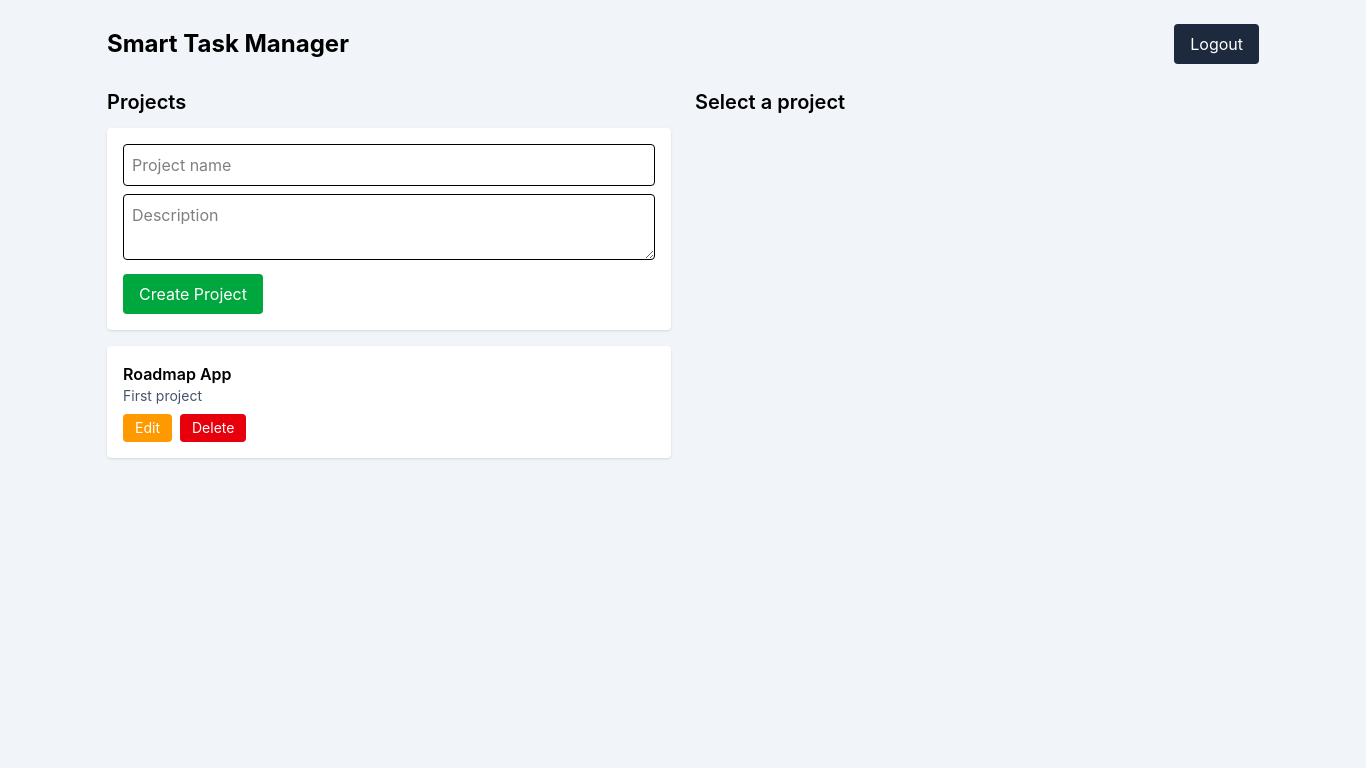
it: App integration › creates a task successfully and refreshes the task list
Click the heading "Roadmap App": [177, 374] box [123,364,232,384]
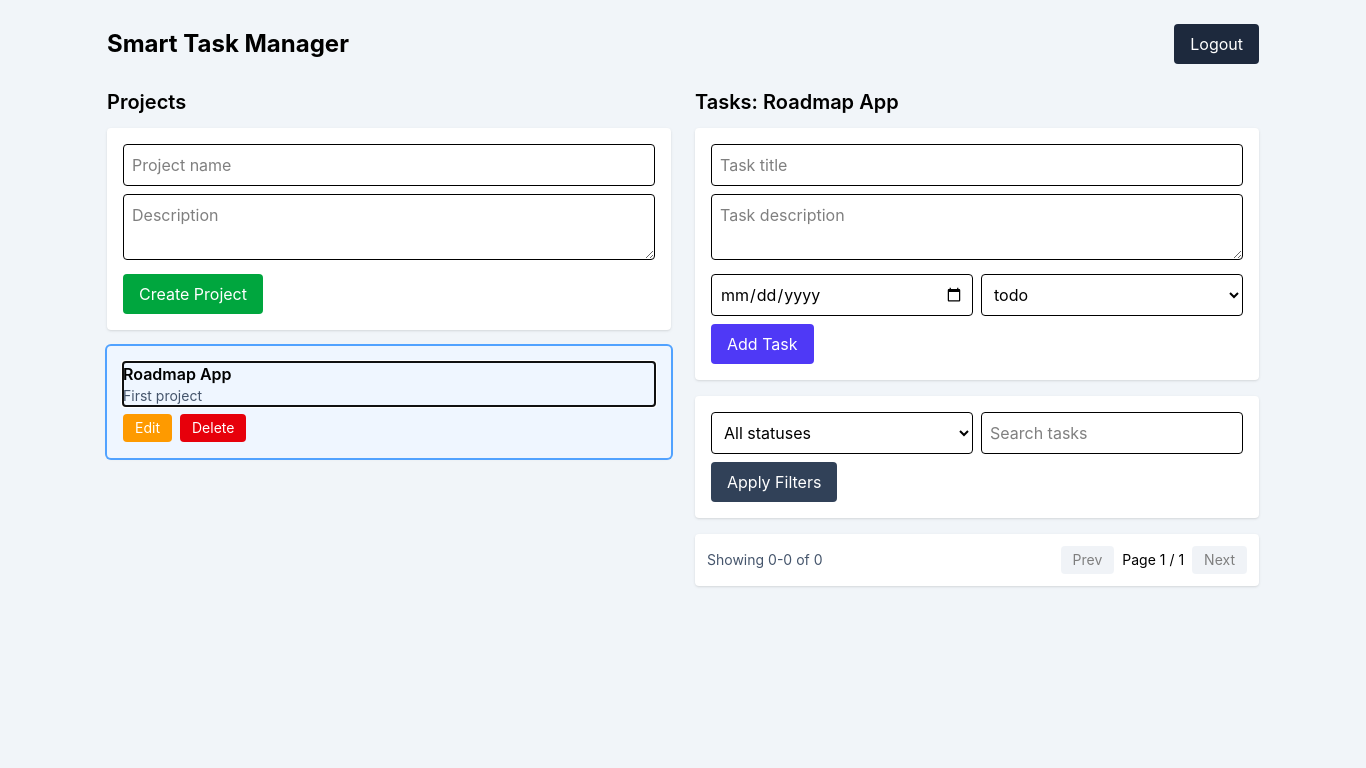
In the field with placeholder "Task title": [977, 165] box [711,144,1243,186], type "Ship Task Flow"
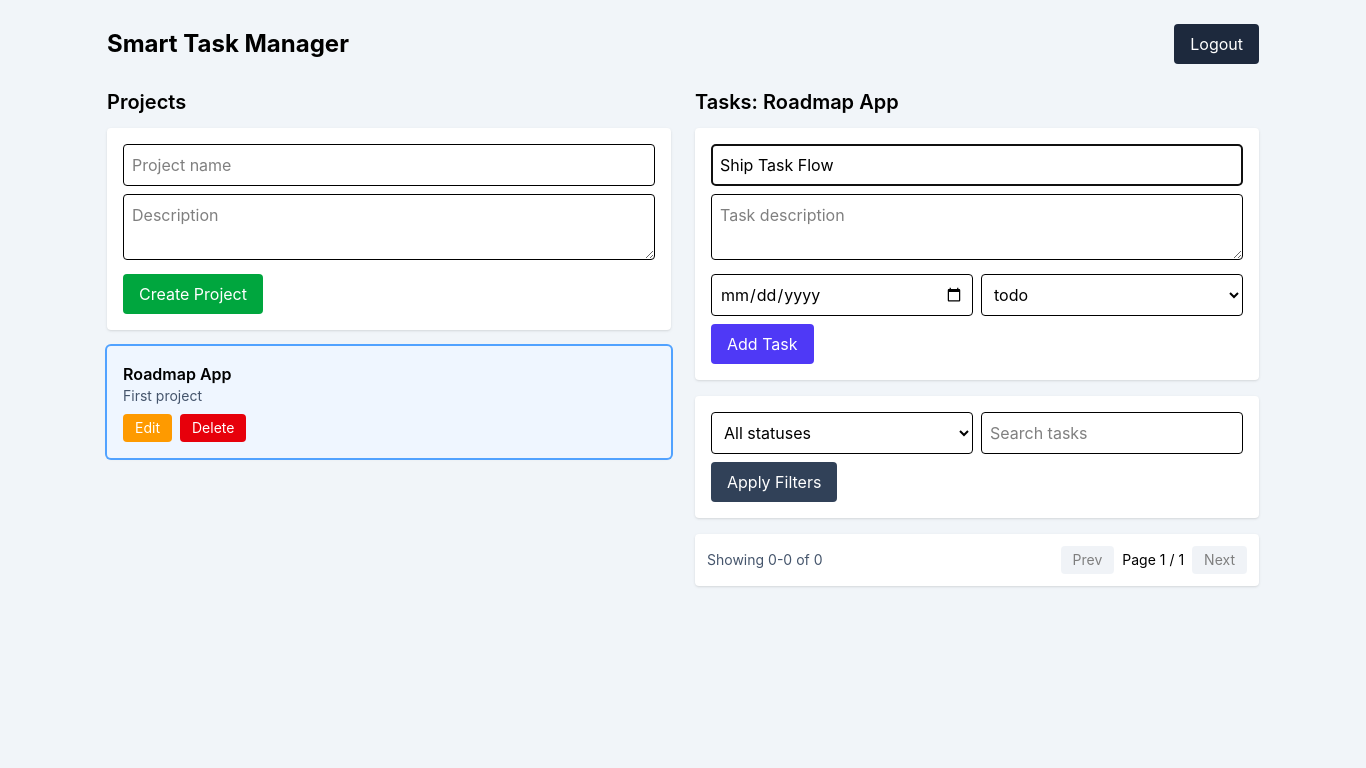
In the text box with placeholder "Task description": [977, 227] box [711,194,1243,260], type "Create and reload tasks"
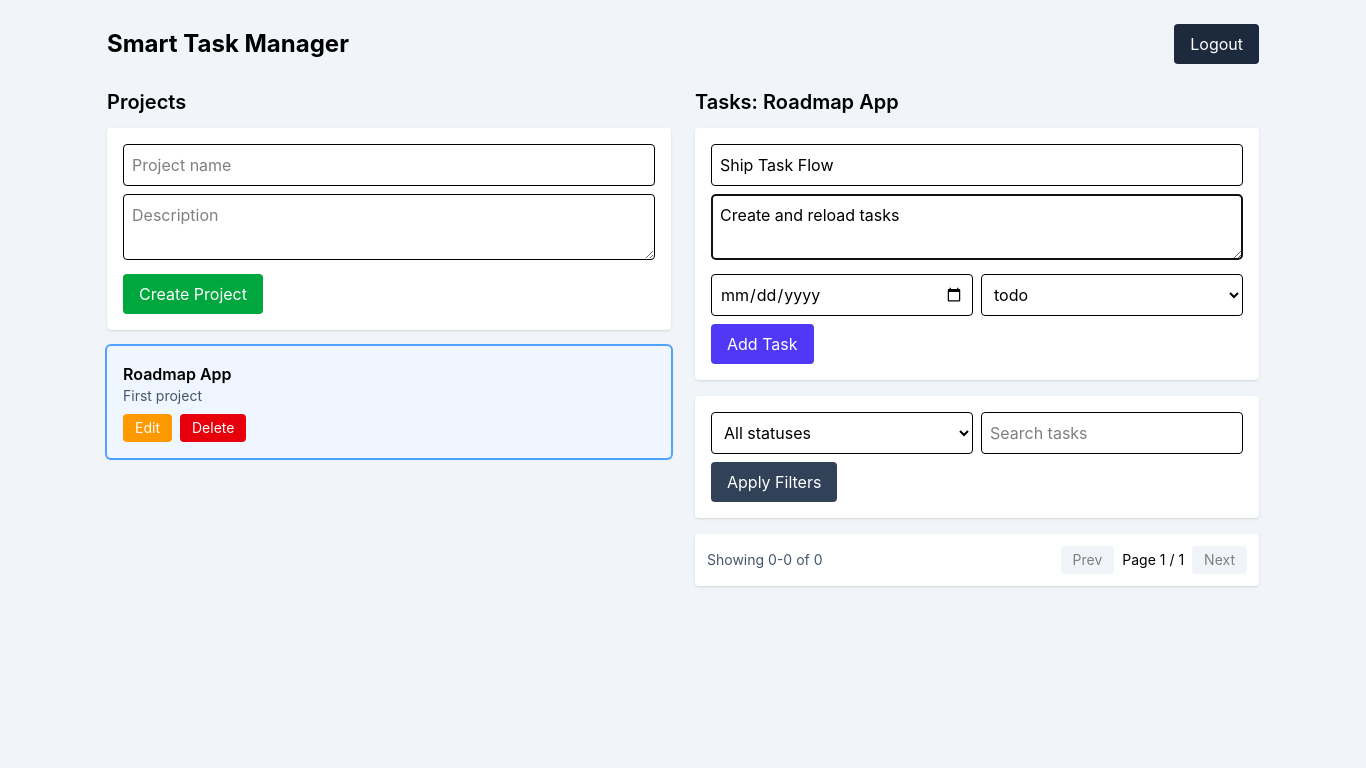
Check: the date field is shown
In the date field: [842, 295] box [711,274,973,316], type "2026-03-10"
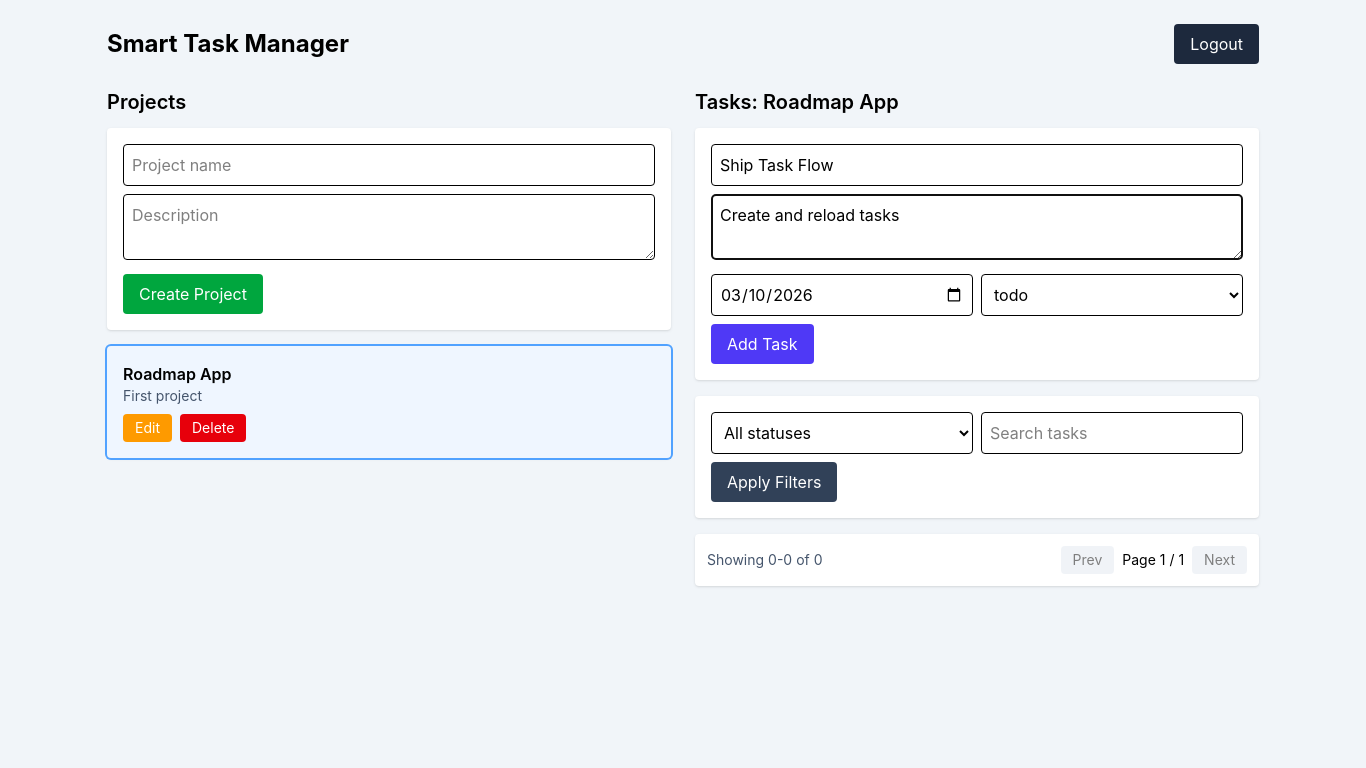
Click the button "Add Task": [762, 344] box [711,324,814,364]
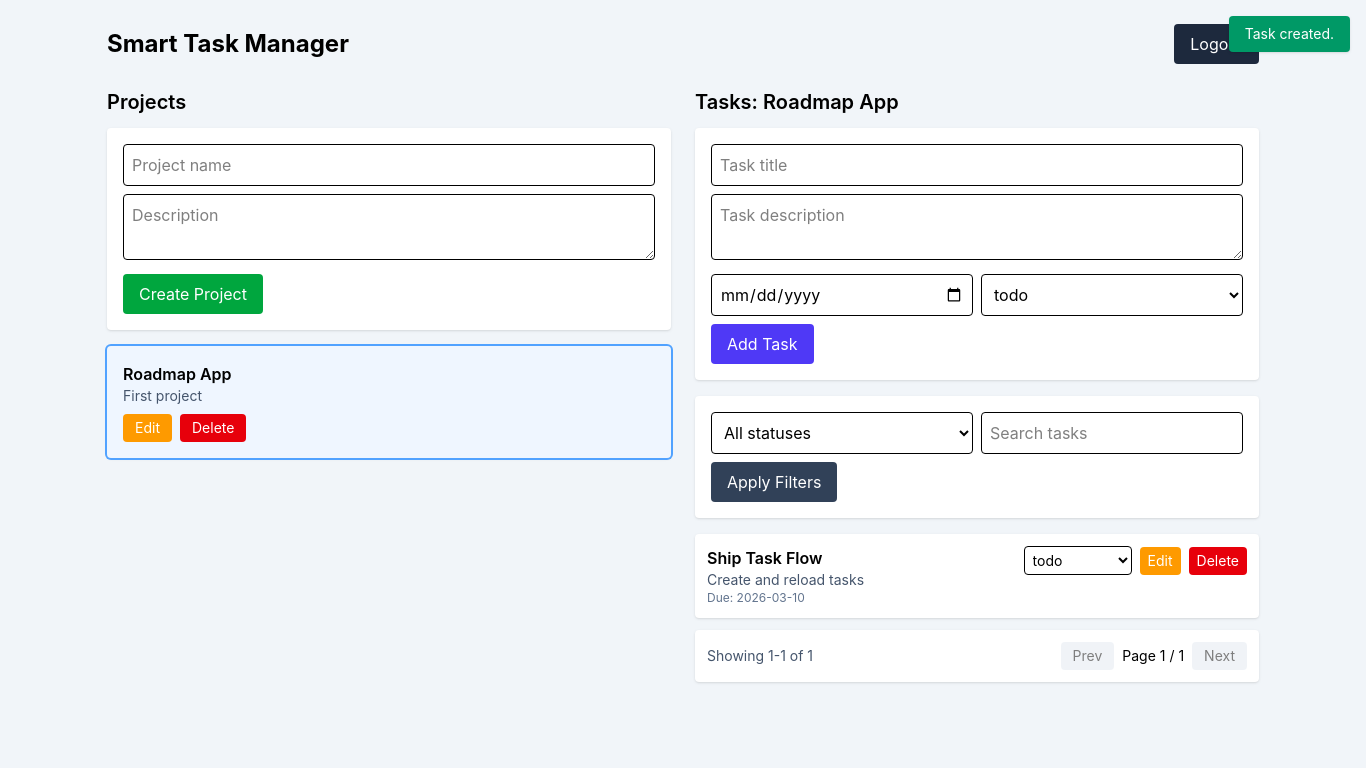
Check: the heading "Ship Task Flow" is shown, box [707,548,822,568]
Check: the text "Create and reload tasks" is shown, box [707,571,864,588]
Check: the text "Task created." is shown, box [1229,16,1350,52]
